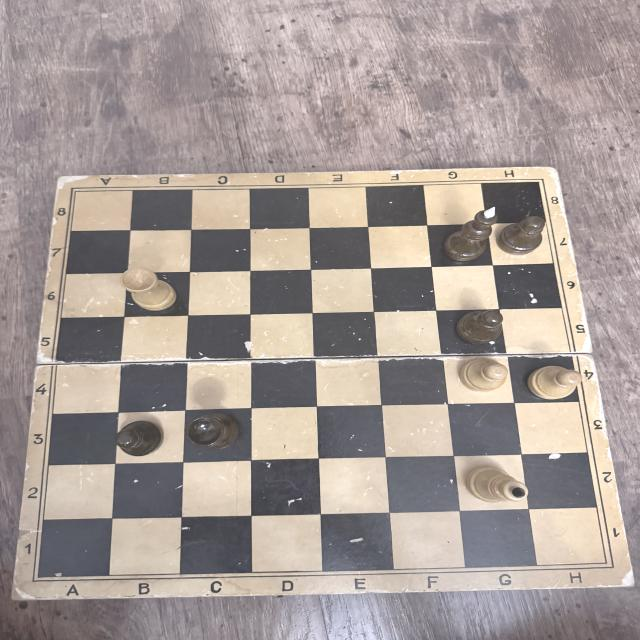black-king: (442, 203, 498, 263)
black-pawn: (114, 420, 164, 457), (499, 216, 545, 256), (456, 309, 505, 344)
black-rook: (186, 414, 241, 452)
white-king: (464, 465, 529, 506)
white-pawn: (527, 363, 581, 402), (462, 357, 506, 392)
white-rook: (120, 266, 178, 314)
